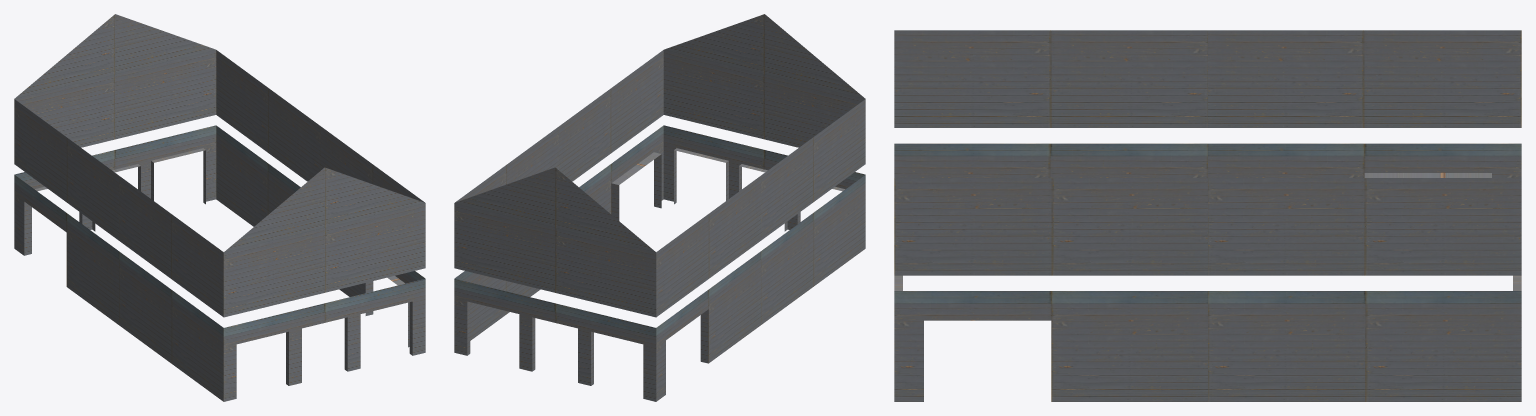
The model's file is rural_woodenbuilding_5_rural_walltrim_1_0_lev2.glb.
The picture shows the model from 3 angles, left to right: view 1: azimuth 30°, elevation 25°; view 2: azimuth 150°, elevation 25°; view 3: azimuth 270°, elevation 25°; orthographic projection. The views are drawn at different scales.
Parts seen in each view (by area): view 1: rural_woodenbuilding_5_rural_walltrim_1_0_lev2; view 2: rural_woodenbuilding_5_rural_walltrim_1_0_lev2; view 3: rural_woodenbuilding_5_rural_walltrim_1_0_lev2.
Part boxes in pixels (x1,y1,x2,y2): rural_woodenbuilding_5_rural_walltrim_1_0_lev2: (14, 14, 425, 401); rural_woodenbuilding_5_rural_walltrim_1_0_lev2: (454, 14, 865, 401); rural_woodenbuilding_5_rural_walltrim_1_0_lev2: (894, 30, 1521, 401).
Bounding box in the file's own units: 5.93 × 5.89 × 10.65.
1 material, 1 textured.
